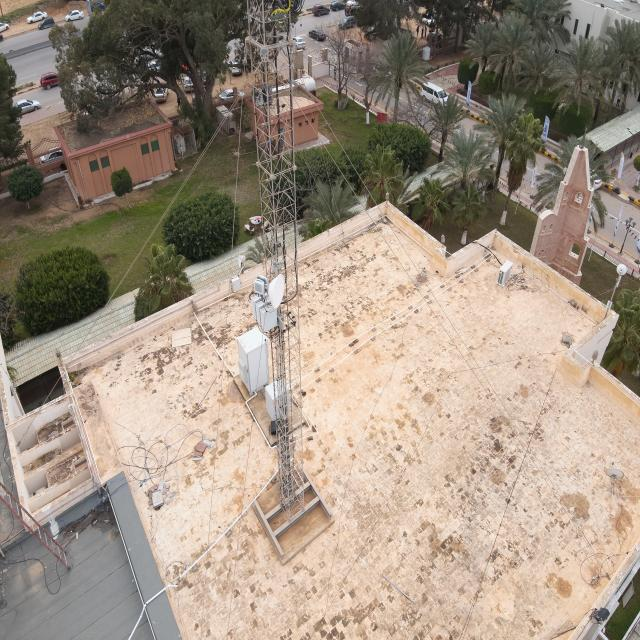microware-dish: (252, 273, 286, 310)
power-box: (251, 291, 279, 333)
